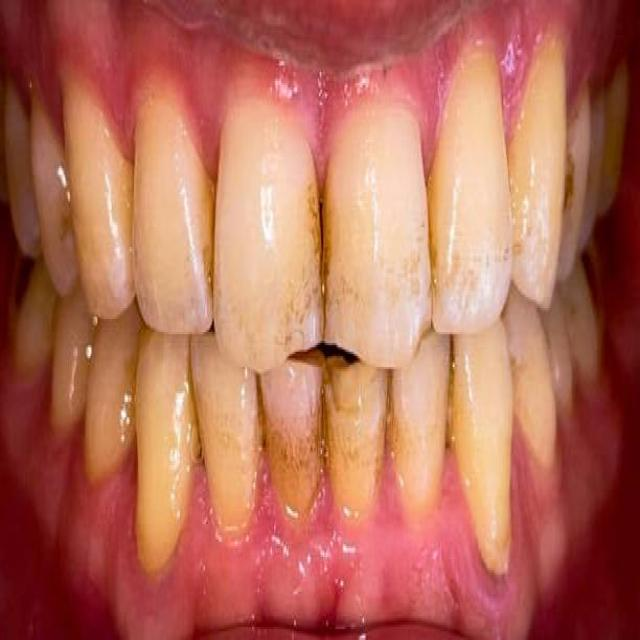caries: (324, 343, 386, 437)
